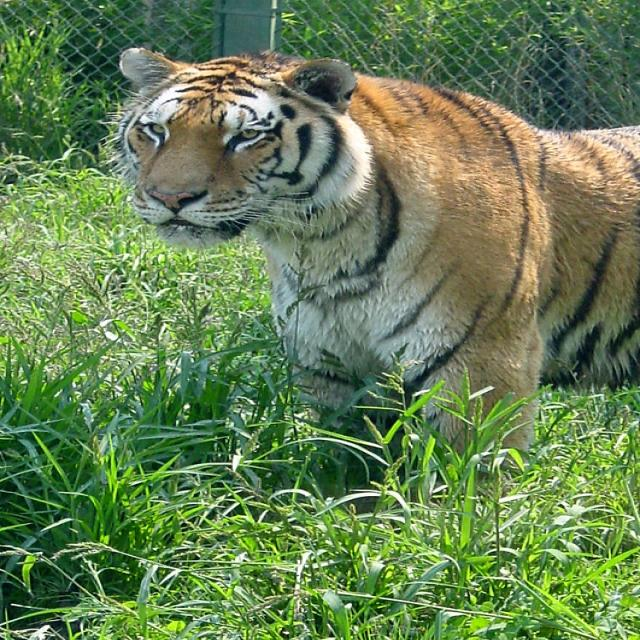Tiger: (95, 32, 632, 490)
